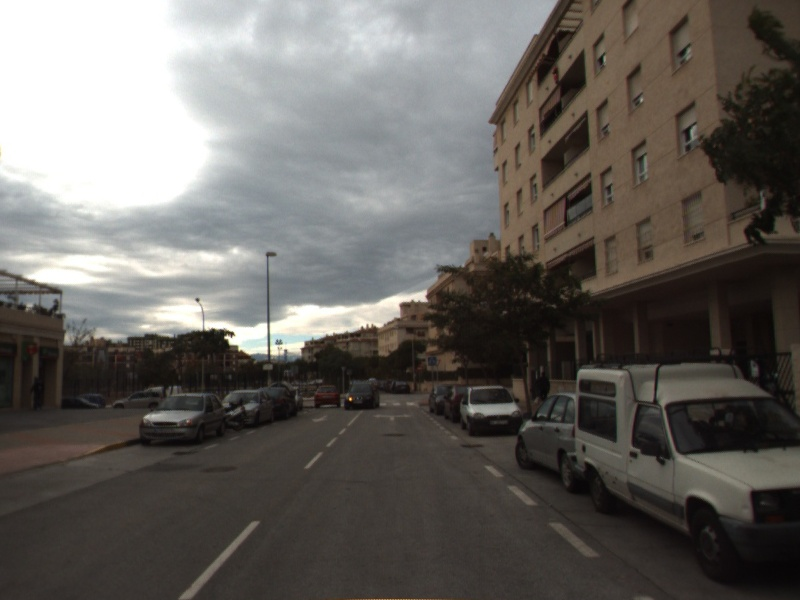LEFT_RIGHT: (371, 411, 414, 422)
